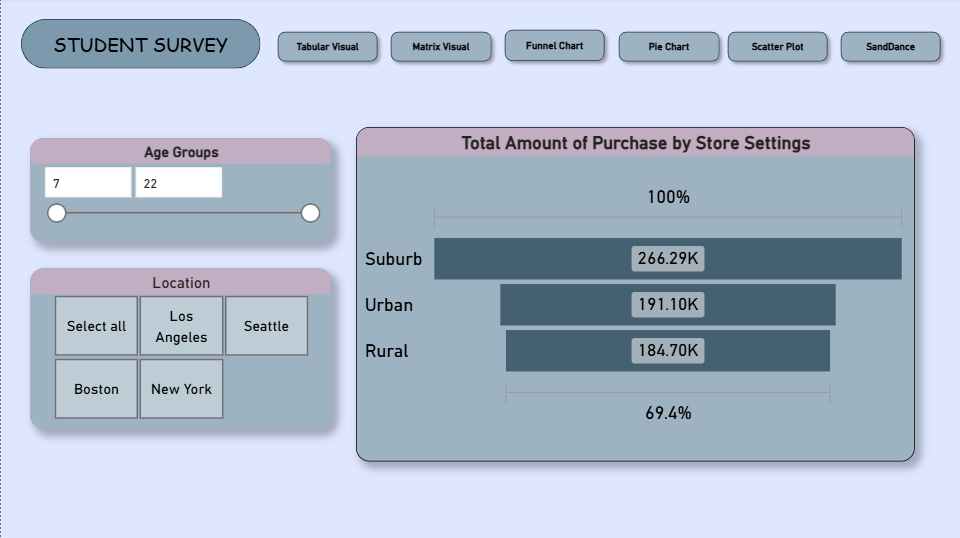

Layout of this report page (visuals, bound fields, positions):
{"tool":"powerbi","page":{"name":"Funnel Chart","canvas":[1280,720],"ordinal":2},"visuals":[{"type":"funnel","title":"Total Amount of Purchase by Store Settings","fields":{"Y":["Sum(Student Survey.Total Amount of Purchases)"],"Category":["Student Survey.Store Setting"]},"box":[473.5,172,744.6,445.9],"z":0},{"type":"shape","box":[814.3,36,152.2,57.6],"z":1000,"group":"g2"},{"type":"slicer","title":"Age Groups","fields":{"Values":["Student Survey.Age"]},"box":[38.5,187.2,401.9,139],"z":1000},{"type":"slicer","title":"Location","fields":{"Values":["Student Survey.Store Location"]},"box":[38.5,360.6,401.9,214.7],"z":2000},{"type":"group","id":"g1","title":"Group 2","box":[360,33,902.2,60.6],"z":3000},{"type":"shape","box":[26.2,27.5,319.3,66.1],"z":4000},{"type":"shape","box":[360,35.7,151.1,57.6],"z":5000,"group":"g1"},{"type":"shape","box":[960,36,151.1,57.6],"z":6000,"group":"g1"},{"type":"shape","box":[1111.1,36,151.1,57.6],"z":7000,"group":"g1"},{"type":"shape","box":[511.1,36,152.2,57.6],"z":8000,"group":"g1"},{"type":"shape","box":[663.2,33,151.1,59.8],"z":9000,"group":"g1"},{"type":"group","id":"g2","title":"Group 1","box":[814.3,36,152.2,57.6],"z":10000,"group":"g1"}]}

Visuals, with their boxes in screenshot pixels (x1, y1, x2, y2), scaled from the page's 1280x720 canvas onto the 960x538 screenshot:
"Total Amount of Purchase by Store Settings" funnel: left=355, top=129, right=914, bottom=462
shape: left=611, top=27, right=725, bottom=70
"Age Groups" slicer: left=29, top=140, right=330, bottom=244
"Location" slicer: left=29, top=269, right=330, bottom=430
"Group 2" group: left=270, top=25, right=947, bottom=70
shape: left=20, top=21, right=259, bottom=70
shape: left=270, top=27, right=383, bottom=70
shape: left=720, top=27, right=833, bottom=70
shape: left=833, top=27, right=947, bottom=70
shape: left=383, top=27, right=497, bottom=70
shape: left=497, top=25, right=611, bottom=69
"Group 1" group: left=611, top=27, right=725, bottom=70
